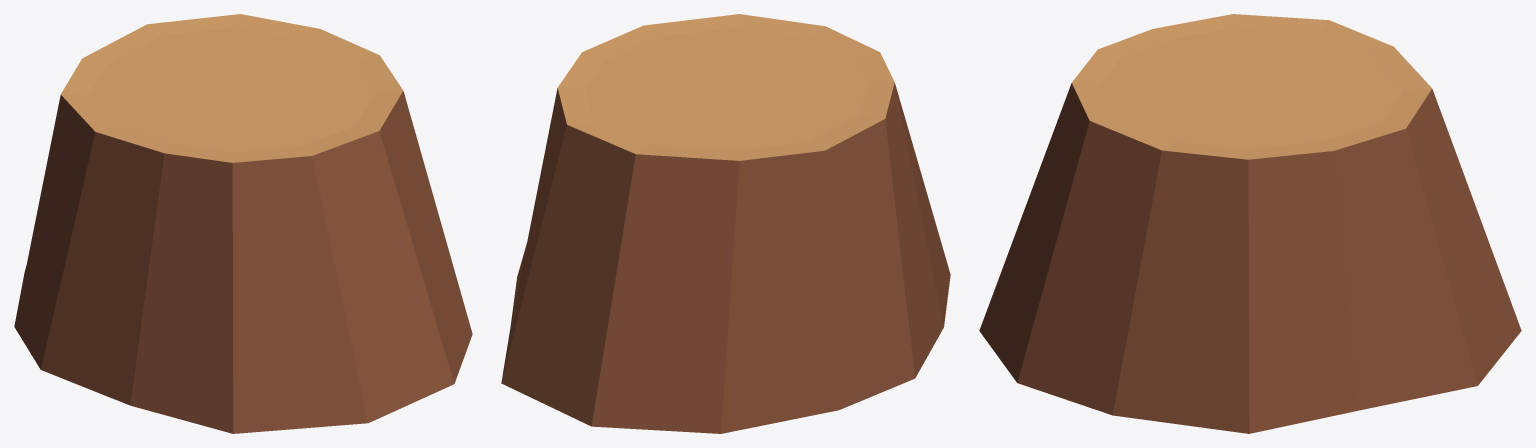
Rendered from penek.glb.
3 renders of one model, left to right at view 1: azimuth 30°, elevation 25°; view 2: azimuth 150°, elevation 25°; view 3: azimuth 270°, elevation 25°, orthographic. The views are drawn at different scales.
Parts seen in each view (by area): view 1: Cylinder; view 2: Cylinder; view 3: Cylinder.
Part boxes in pixels (box(x1,y1,x2,y2)): Cylinder: box(14, 14, 472, 433); Cylinder: box(501, 14, 950, 433); Cylinder: box(979, 14, 1521, 433).
Size of the model in its own units: 1.19 by 0.6779 by 1.37.
1 material, 1 textured.
